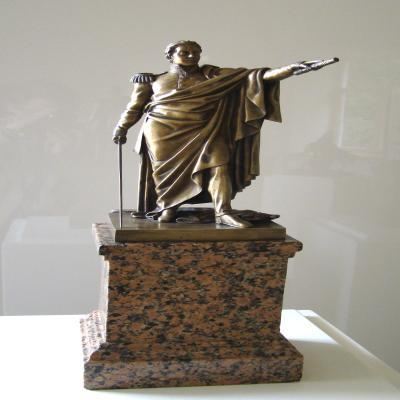sculpture: (114, 41, 329, 229)
